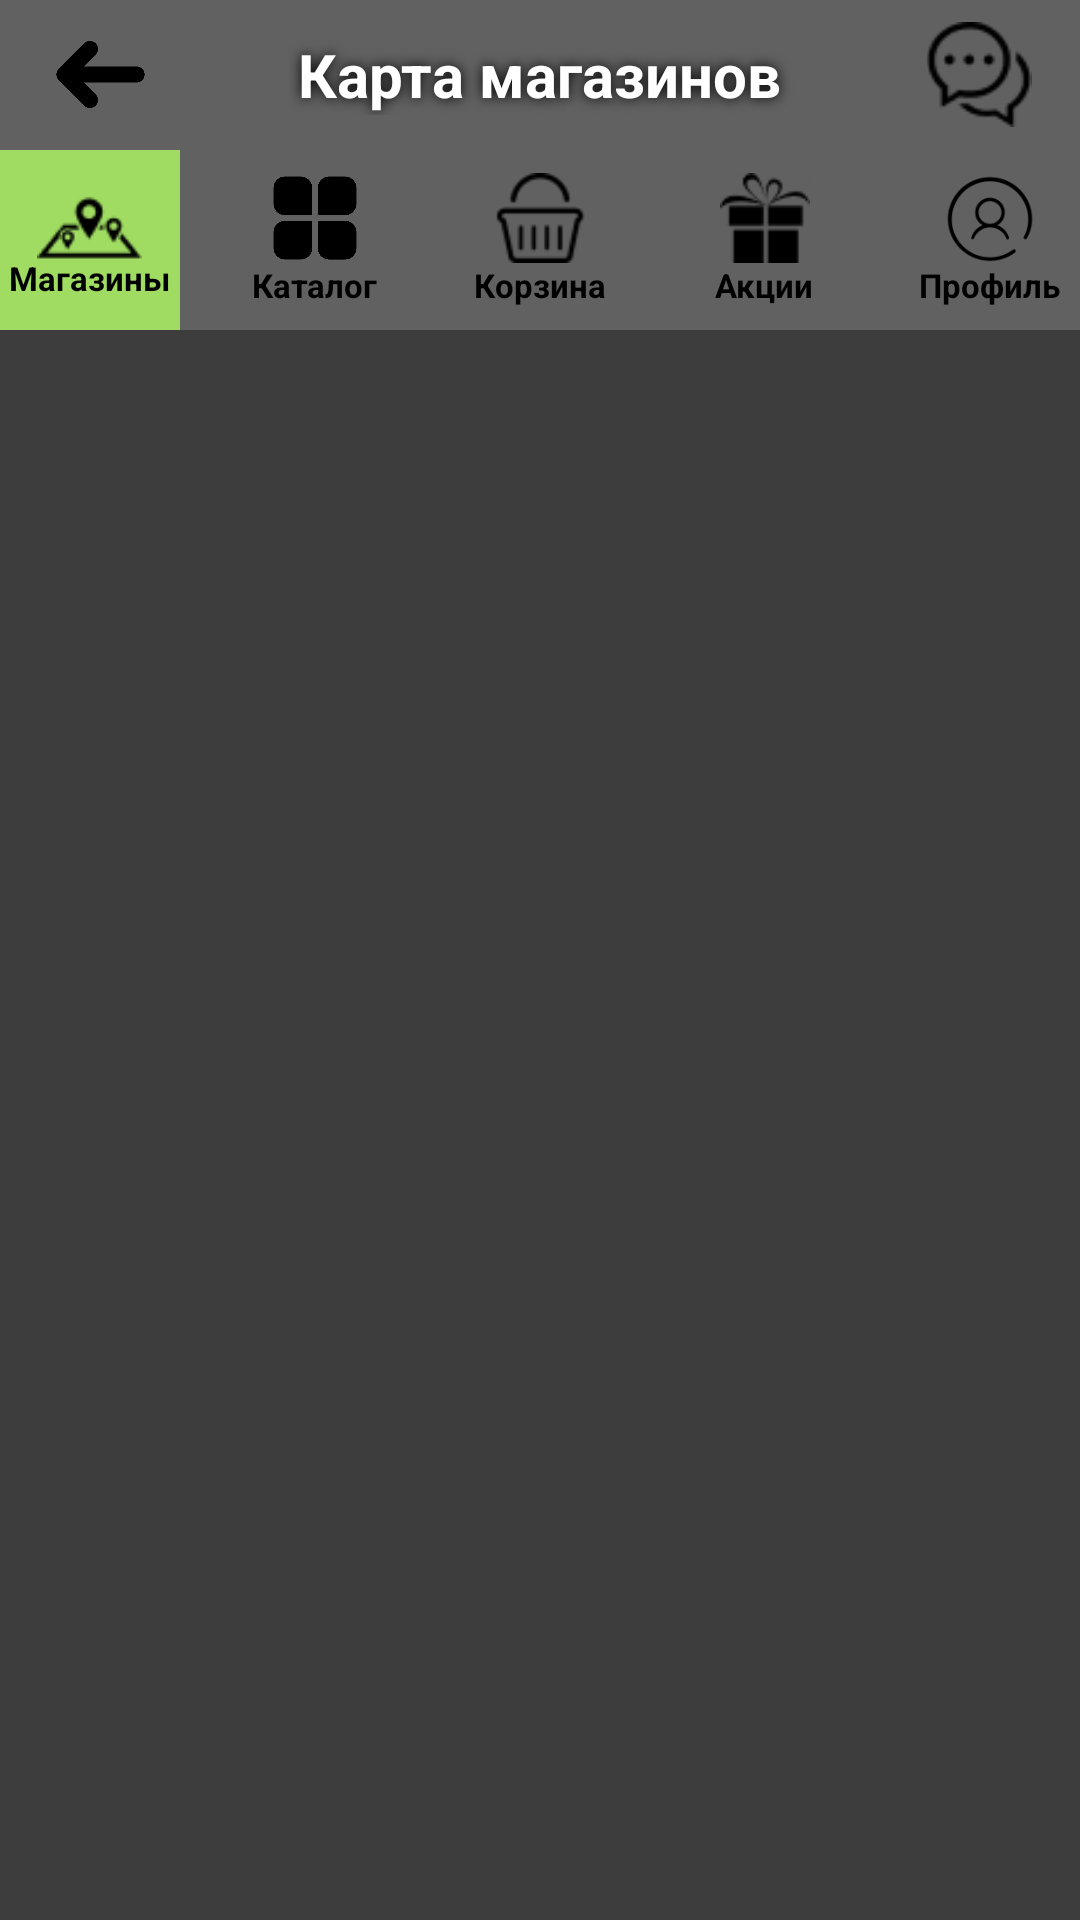

Where icons sit on this 1080w x 1920h app screen, as (x1, y1, x2, y2):
chat: (927, 22, 1032, 127)
map: (37, 197, 142, 259)
